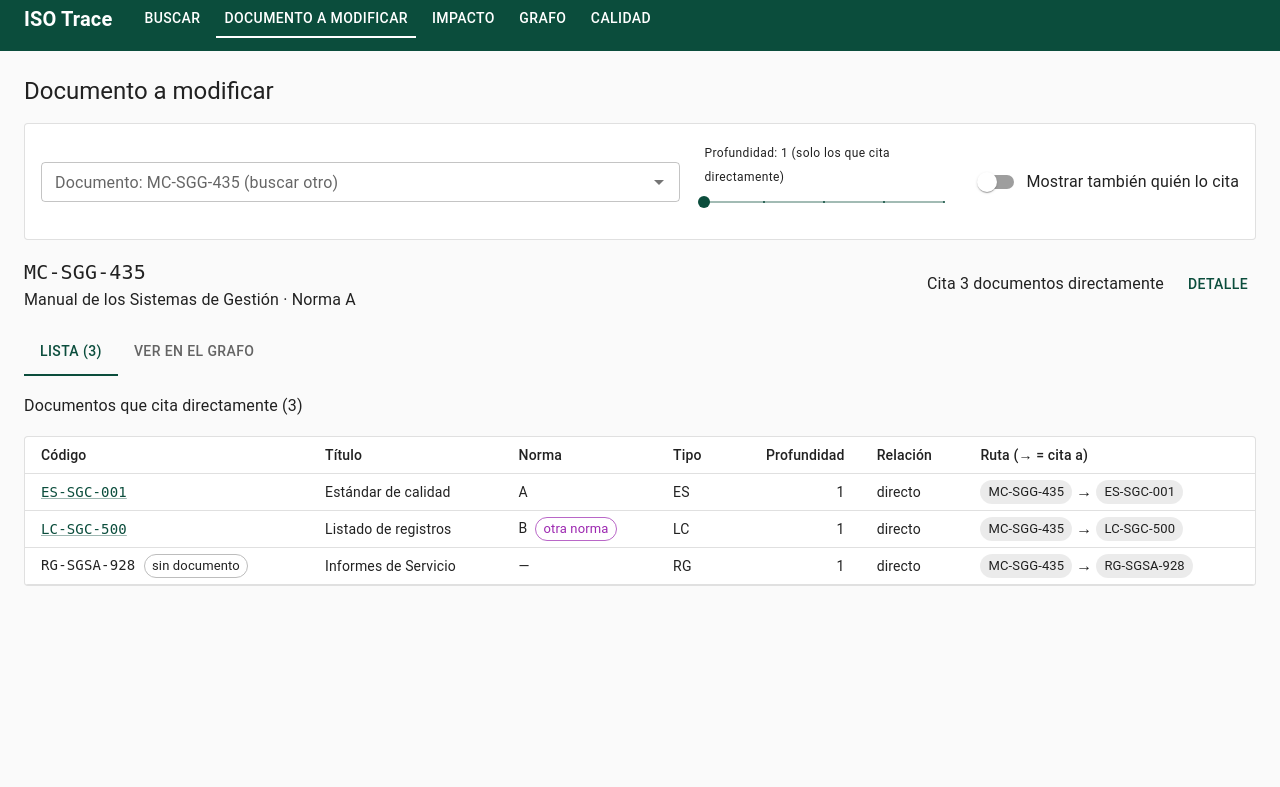
Test: ModifyPage › resalta lo que cita sobre el grafo completo
The width and height of the screenshot is (1280, 787).
What coordinates should you click on to do the following:
click the tab "Ver en el grafo"
I would click on:
 (194, 352)
Its box is x1=118 y1=328 x2=270 y2=376.
(page scrolled)
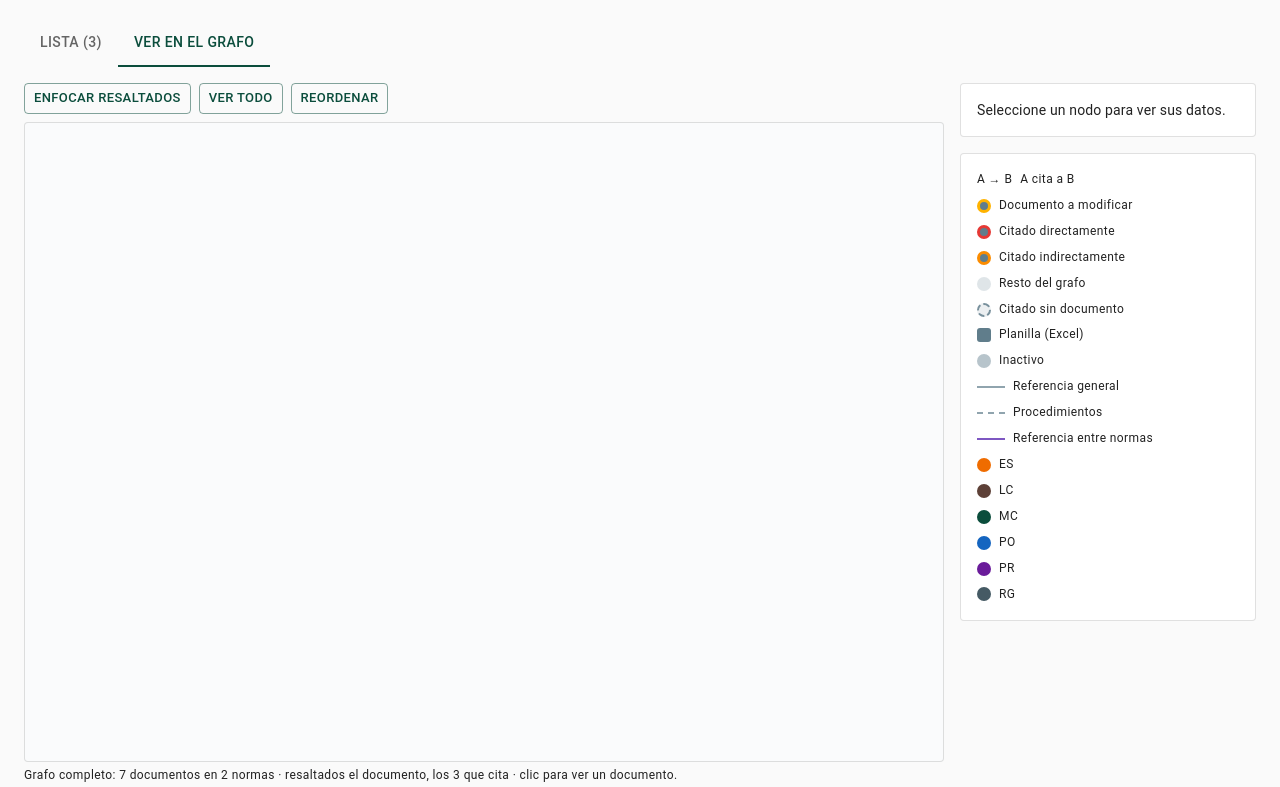
Expected: the picture with test id "full-graph-canvas" is shown, x1=24 y1=122 x2=944 y2=762
Expected: the element named "Leyenda del grafo" shows "Documento a modificar", x1=999 y1=198 x2=1133 y2=212
